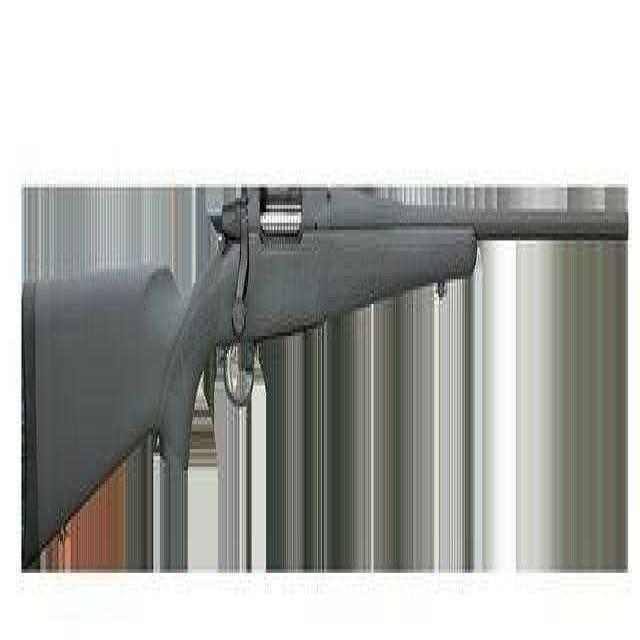heavyweapon: (11, 168, 632, 578)
